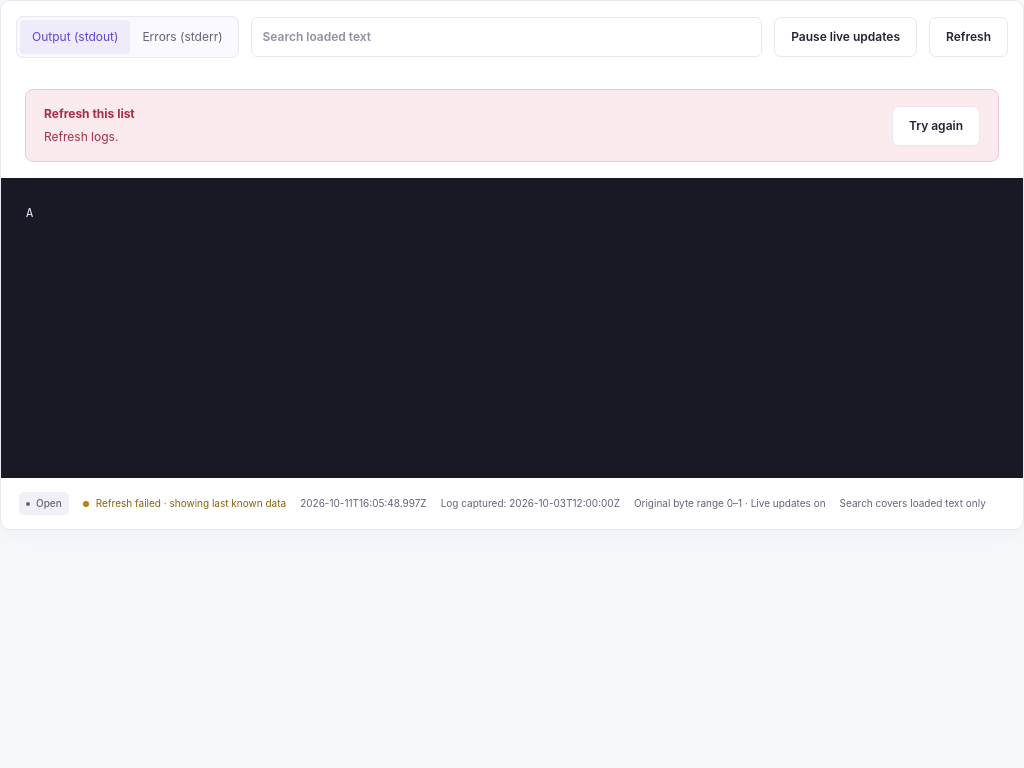
it: restarts an expired continuation from a fresh tail on explicit refresh
This screenshot has width=1024, height=768.
Click the button "Refresh": (968, 37) [929,17,1008,57]
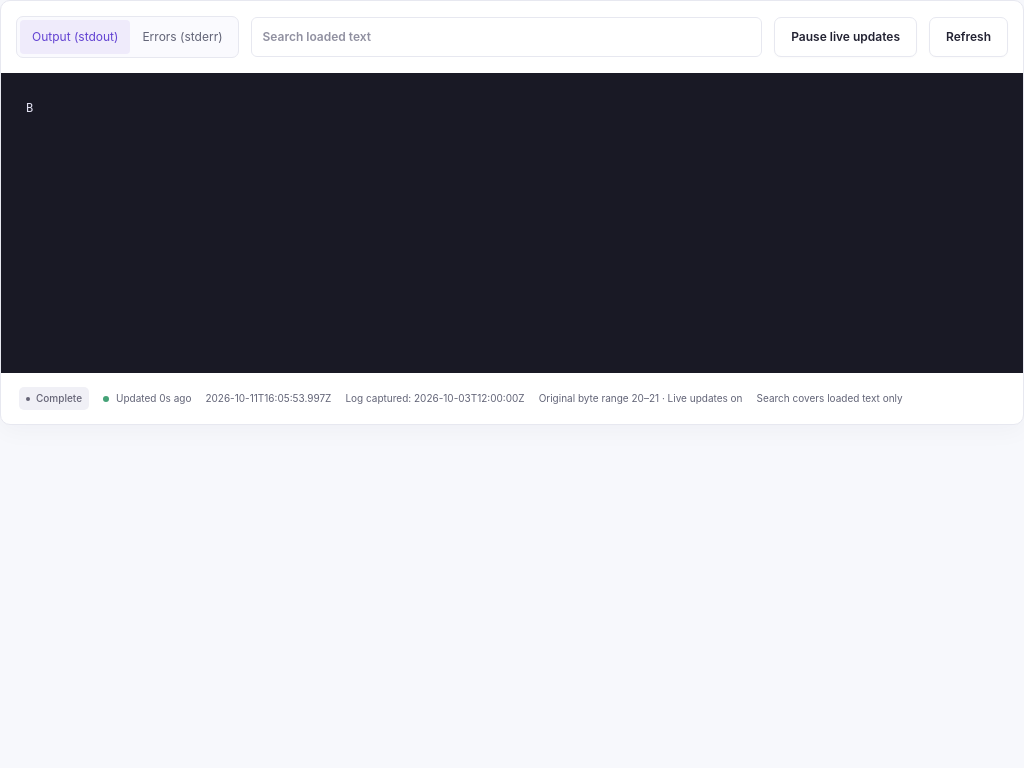
Expected: the text named "stdout log output" does not show "A", [1,73,1023,373]
Expected: the text named "stdout log output" reads "B", [26,101,33,115]
